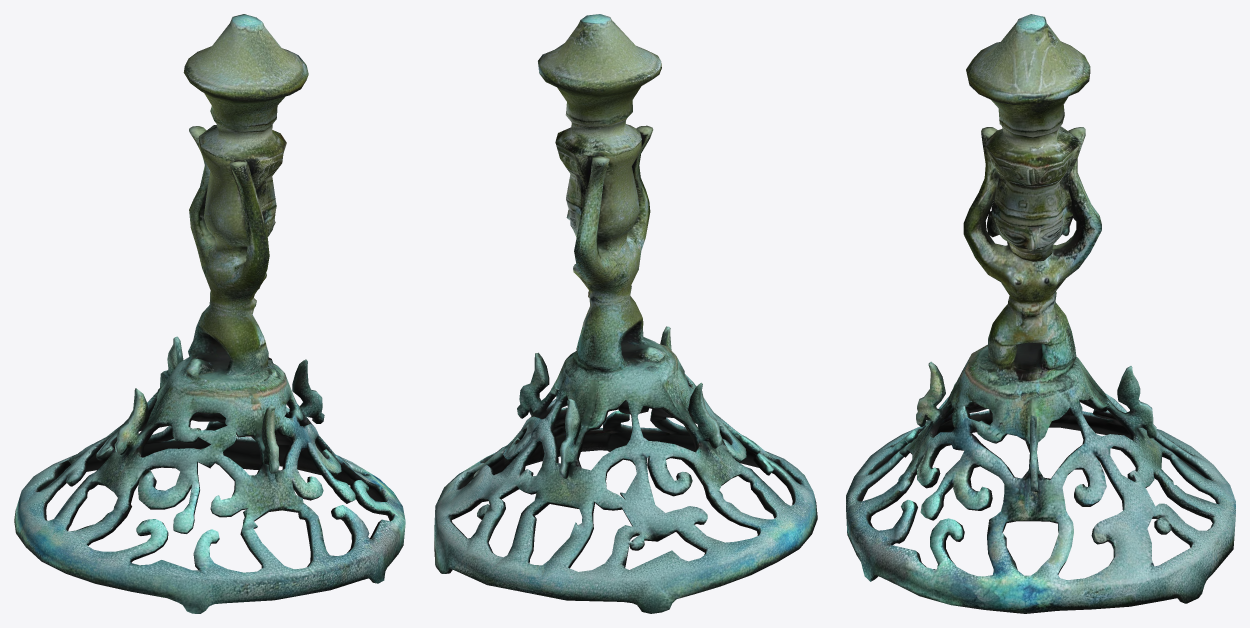
The model's file is second-ornate-candlestick.glb.
The picture shows the model from 3 angles, left to right: view 1: azimuth 30°, elevation 25°; view 2: azimuth 150°, elevation 25°; view 3: azimuth 270°, elevation 25°; orthographic projection. The views are drawn at different scales.
Parts seen in each view (by area): view 1: second-ornate-candlestick; view 2: second-ornate-candlestick; view 3: second-ornate-candlestick.
Boxes of the visible parts, x1,y1,x2,y2 form: second-ornate-candlestick: (14, 14, 405, 613); second-ornate-candlestick: (434, 14, 817, 613); second-ornate-candlestick: (846, 14, 1235, 613).
Size of the model in its own units: 0.6816 by 0.998 by 0.6543.
1 material, 1 textured.
